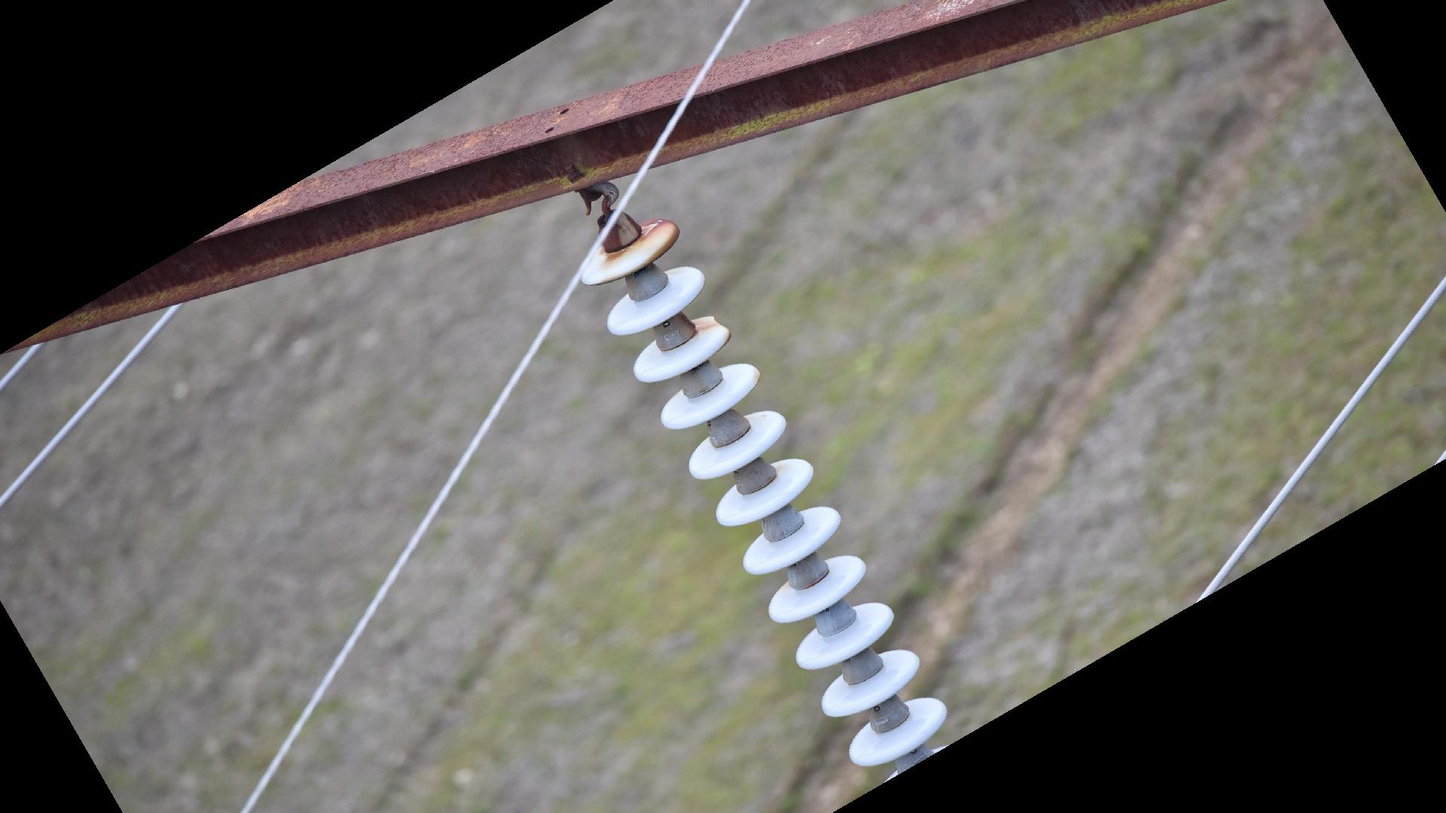insulator: (575, 209, 953, 774)
insulator_breakage: (700, 311, 736, 340)
